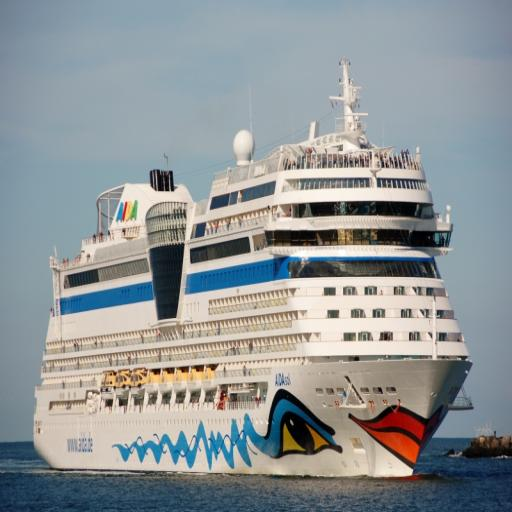cruises: (28, 60, 476, 486)
